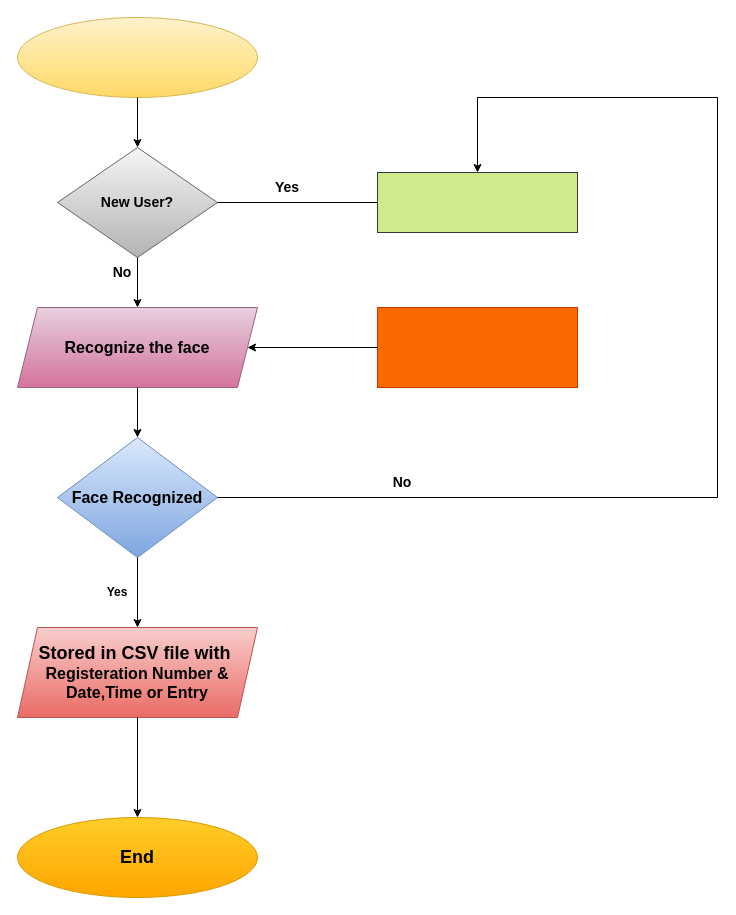
Image size: 736x915. Some labels were removed from this diagram. Each missing label, with the box of its shape:
Give your Photograph: (376, 172, 578, 232)
Start: (16, 16, 258, 98)
Store the face data in folder on your name: (376, 306, 578, 388)
